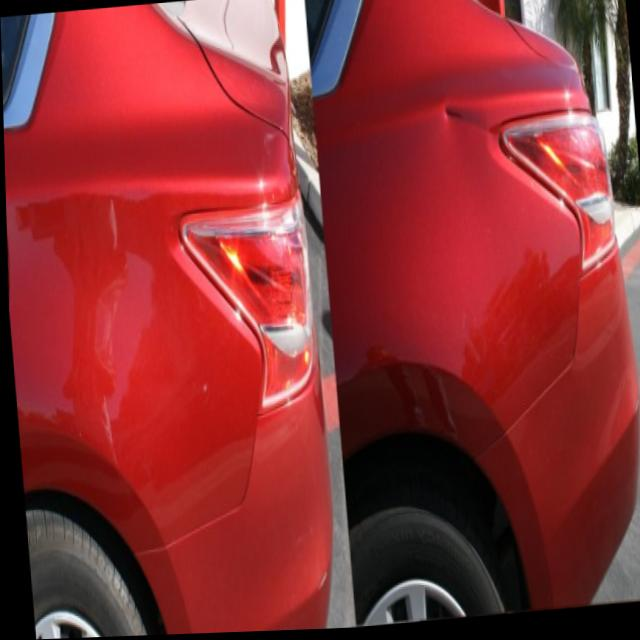Dent: (421, 70, 486, 197)
